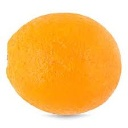orange: (3, 10, 124, 117)
